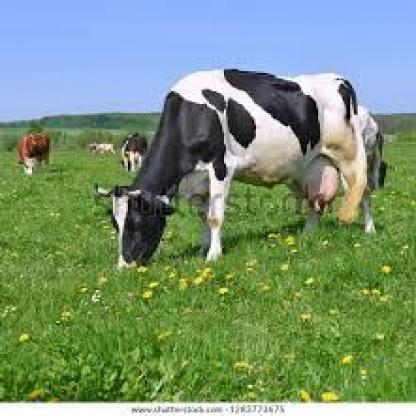cow: (95, 69, 370, 272), (18, 133, 52, 175), (121, 133, 148, 170), (90, 142, 115, 155)
